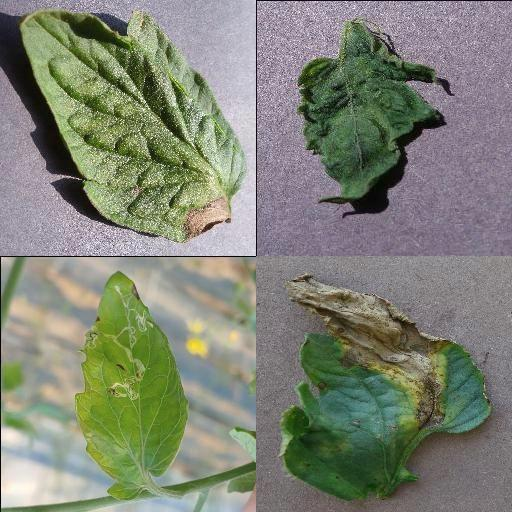Early Blight: (281, 274, 493, 506)
Late Blight: (20, 9, 250, 245)
Leaf Miner: (74, 270, 188, 500)
Mosaic Virus: (294, 22, 448, 206)
